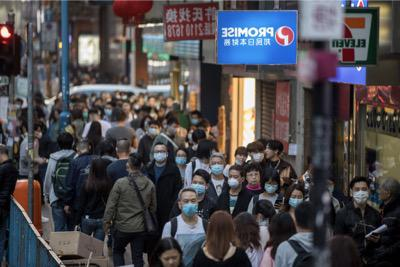mask_weared_incorrect: (235, 155, 247, 165)
with_mask: (180, 197, 197, 217), (352, 186, 369, 205), (190, 179, 206, 196), (287, 194, 303, 210), (226, 173, 241, 189), (152, 148, 167, 164), (210, 159, 224, 176), (263, 181, 278, 194), (251, 150, 265, 163), (174, 153, 186, 165), (167, 125, 178, 135), (148, 126, 158, 137), (103, 106, 113, 116), (190, 115, 199, 126), (32, 130, 42, 139), (326, 181, 333, 193), (81, 110, 88, 118)
without_mask: (160, 248, 179, 267), (245, 171, 258, 185), (378, 185, 386, 201), (264, 146, 274, 158)
